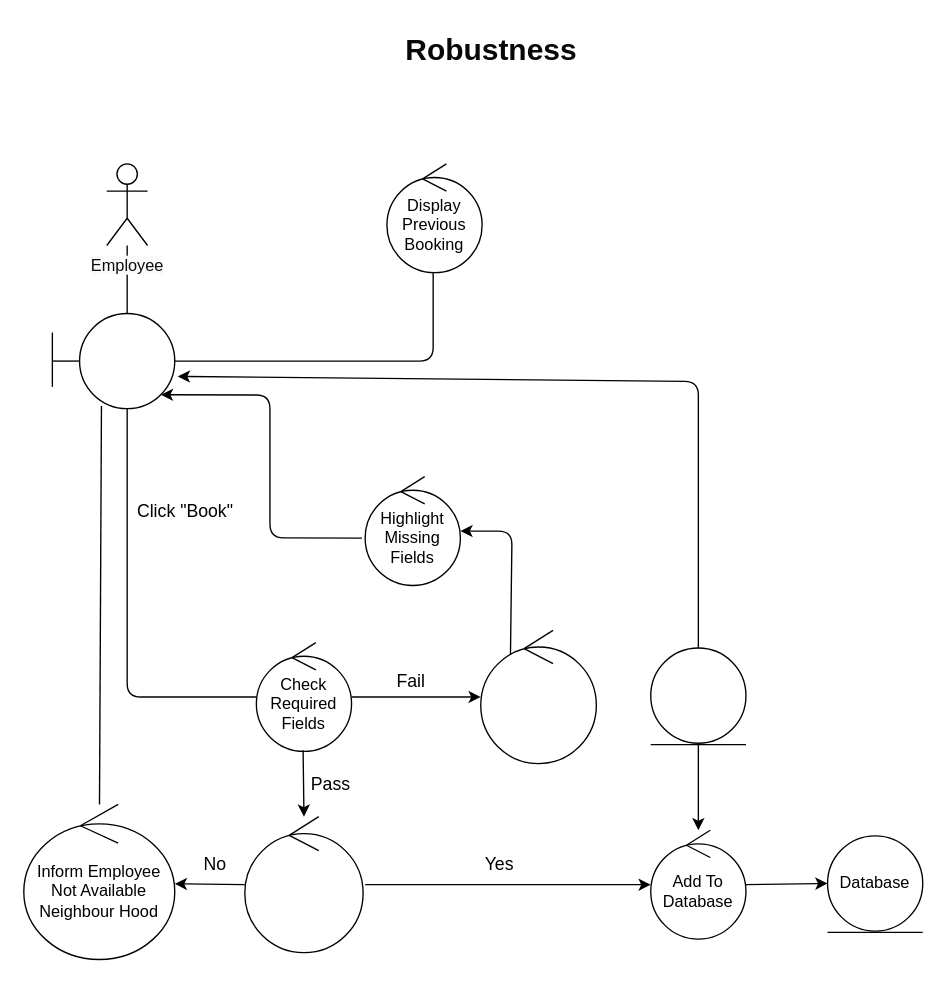
Image size: 948x983. Some labels were removed from this diagram. The box of each missing label's shape, as (x1, y1, x2, y2) in pixels:
Desk Booking: (649, 647, 746, 743)
Desk Booking Details Page: (78, 312, 175, 409)
Inform Employee About Missing Feilds: (479, 629, 596, 764)
Is Prefered Neightbour Is Available: (243, 815, 363, 953)
